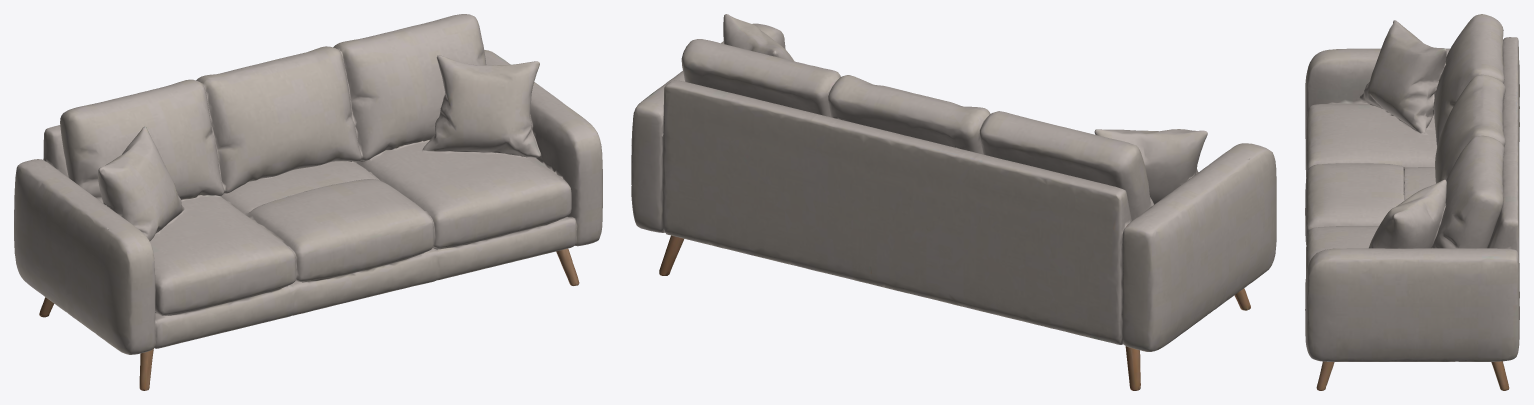
File: modern-sofa.glb
The picture shows the model from 3 angles, left to right: view 1: azimuth 30°, elevation 25°; view 2: azimuth 150°, elevation 25°; view 3: azimuth 270°, elevation 25°; orthographic projection. The views are drawn at different scales.
Parts seen in each view (by area): view 1: geometry_0; view 2: geometry_0; view 3: geometry_0.
Boxes of the visible parts, x1,y1,x2,y2 form: geometry_0: (14, 14, 602, 390); geometry_0: (631, 14, 1276, 390); geometry_0: (1305, 14, 1519, 390).
Bounding box in the file's own units: 2 × 0.8201 × 0.8353.
1 material, 1 textured.
